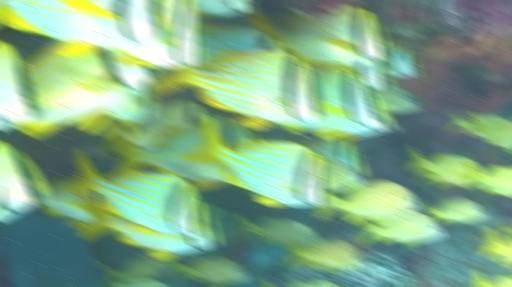Fish: (152, 50, 326, 128), (185, 116, 330, 205), (67, 152, 208, 234), (14, 48, 135, 136), (0, 0, 172, 54), (80, 195, 219, 259), (245, 6, 390, 64), (107, 123, 227, 184), (280, 71, 387, 133), (115, 0, 202, 67), (315, 182, 418, 222), (115, 102, 204, 148), (0, 49, 44, 125), (98, 84, 159, 138), (0, 146, 47, 216), (200, 25, 281, 64), (406, 147, 483, 187), (356, 211, 443, 244), (38, 179, 93, 227), (308, 57, 391, 88), (283, 240, 364, 271), (236, 217, 319, 247), (305, 138, 366, 174), (99, 254, 172, 282), (173, 259, 248, 286), (316, 114, 393, 140), (107, 49, 156, 89), (463, 114, 511, 148), (205, 202, 240, 243), (320, 159, 363, 191), (426, 200, 485, 222), (372, 86, 419, 113), (353, 57, 392, 88), (482, 226, 511, 265), (388, 45, 419, 76), (194, 0, 254, 15), (446, 112, 472, 133), (117, 279, 169, 286), (473, 271, 492, 286), (497, 222, 511, 235), (294, 282, 339, 286)
